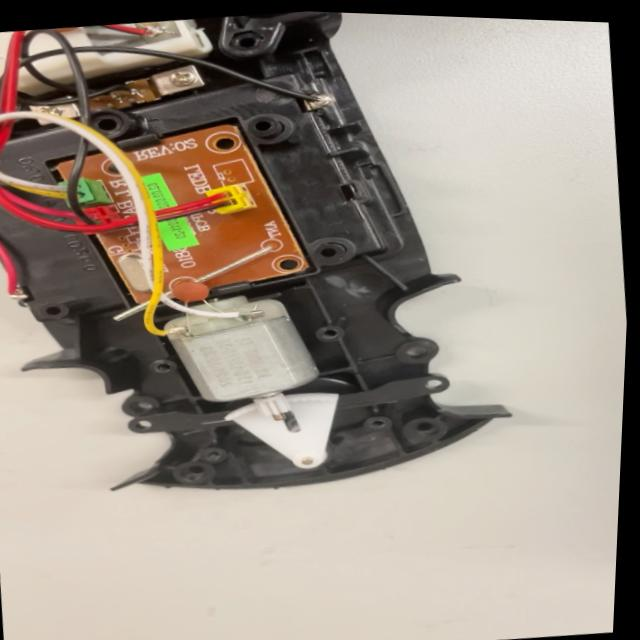motor: (165, 282, 319, 434)
